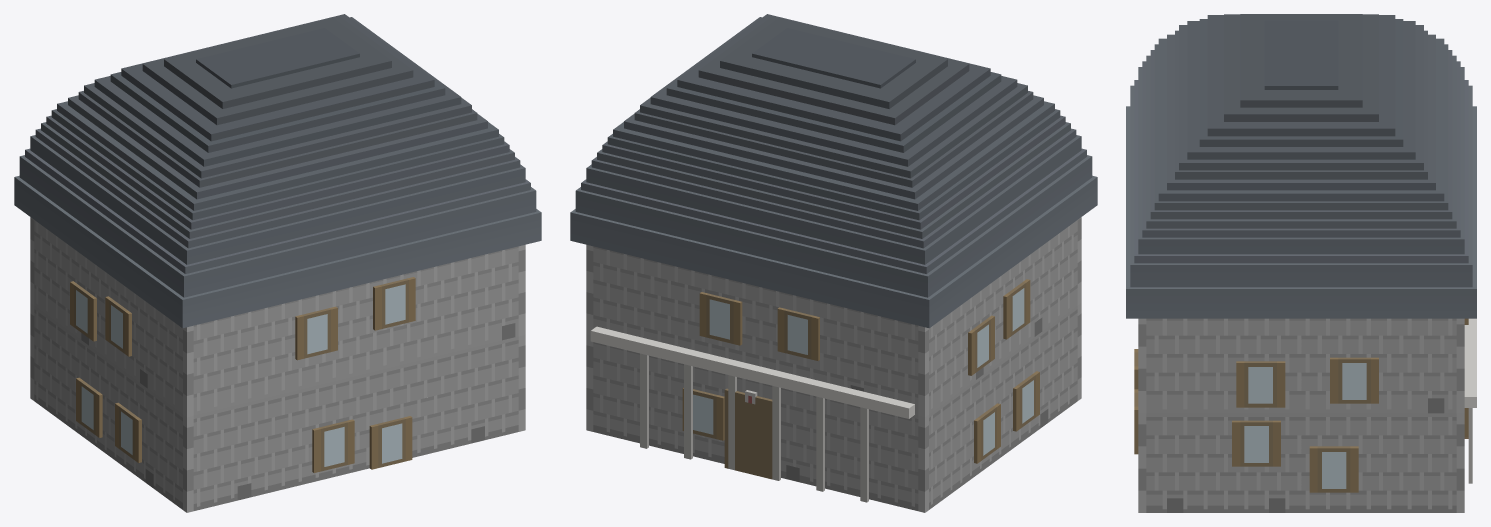
Rendered from casa_de_cambio_03.glb.
3 views of the same model, side by side, from view 1: azimuth 30°, elevation 25°; view 2: azimuth 150°, elevation 25°; view 3: azimuth 270°, elevation 25° (orthographic). The views are drawn at different scales.
Visible parts, largest first — view 1: casa_de_cambio_03; view 2: casa_de_cambio_03; view 3: casa_de_cambio_03.
Part boxes in pixels (<box>): casa_de_cambio_03: <box>14,14,541,512</box>; casa_de_cambio_03: <box>570,14,1097,512</box>; casa_de_cambio_03: <box>1126,14,1476,512</box>.
Bounding box in the file's own units: 10.6 × 10.1 × 8.6.
